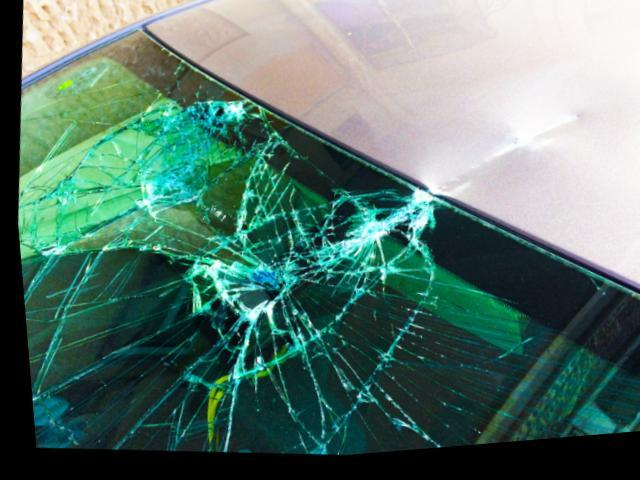dent: (426, 89, 595, 202)
glass shatter: (14, 31, 640, 460)
